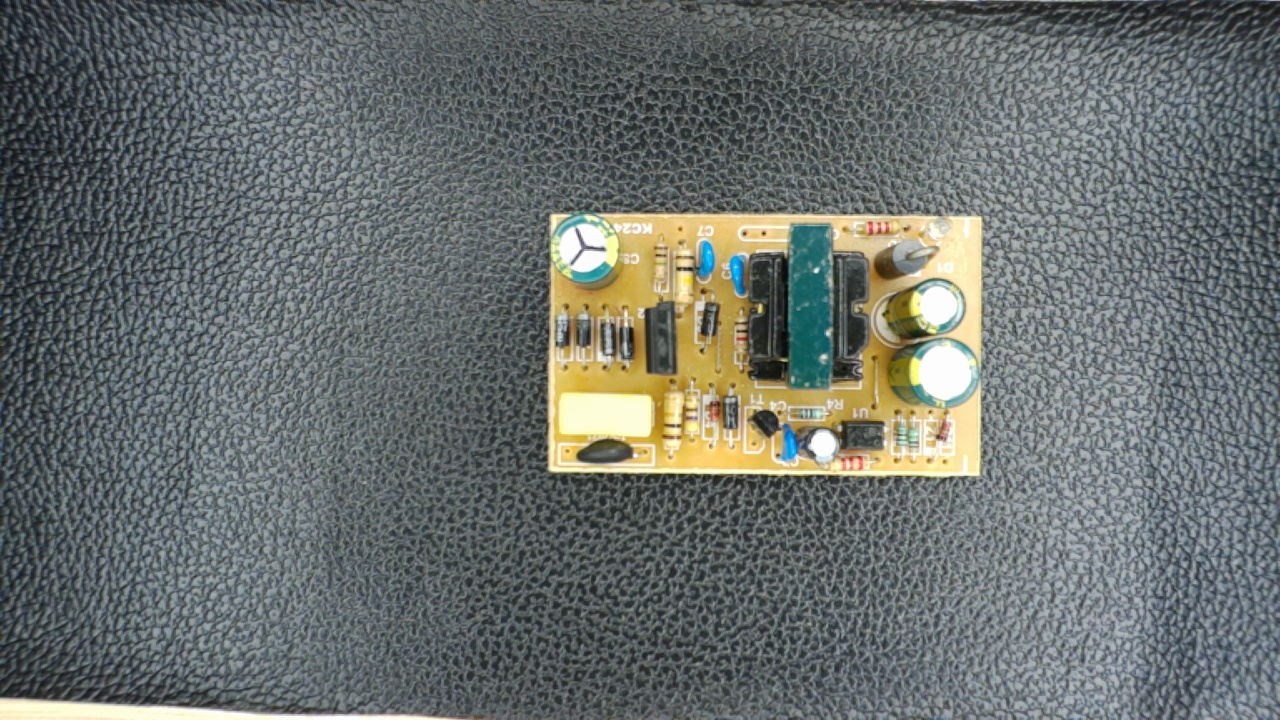fuse: (567, 435, 647, 468)
hv_capacitor: (545, 212, 626, 291)
optocoupler: (833, 411, 893, 461)
